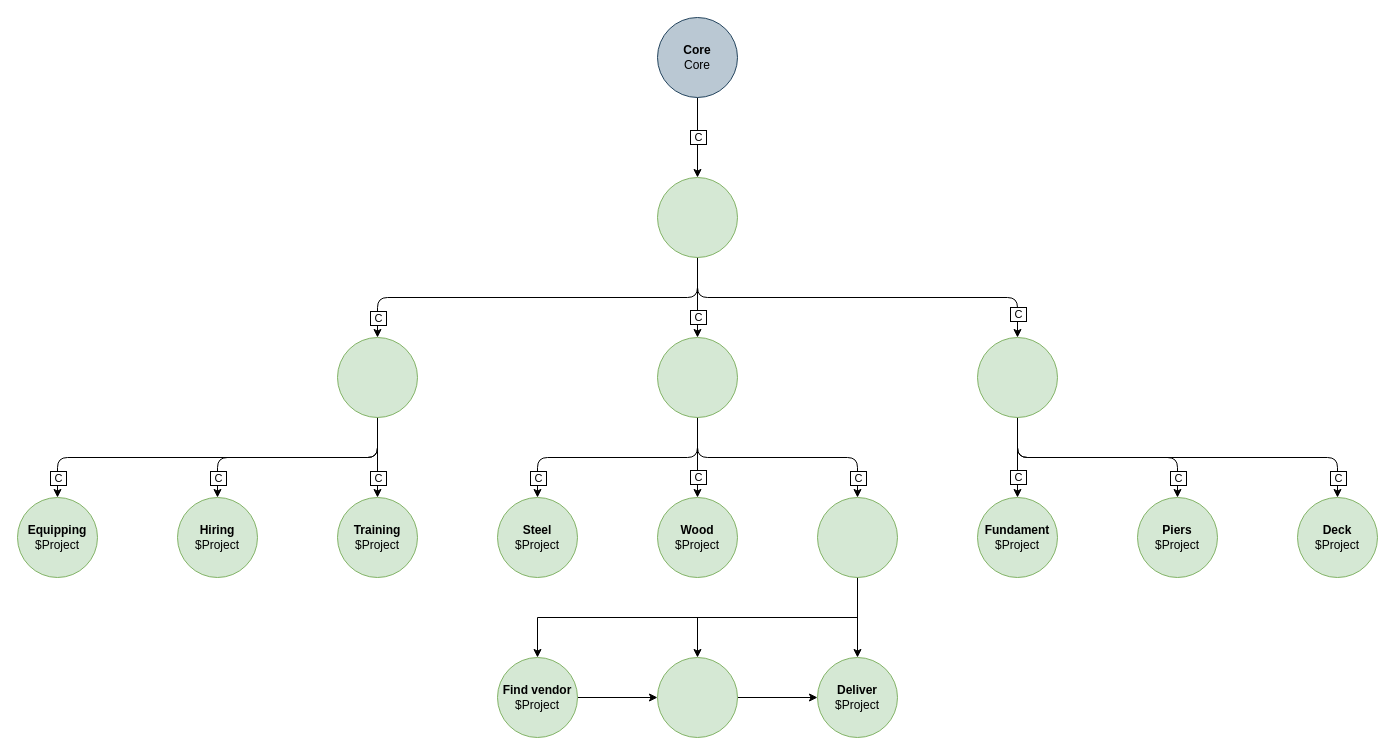
Image size: 1395x755. Some labels were removed from this diagram. The shapes that lost their labels are listed below. From the top down, each one's centre as x and y in pixels, then its label:
At (697,217): "Bridge Construction $Project".
At (377,377): "HR $Project".
At (697,377): "Material suppliment $Project".
At (1017,377): "Construction $Project".
At (857,537): "Stone $Project".
At (697,697): "Order $Project".
